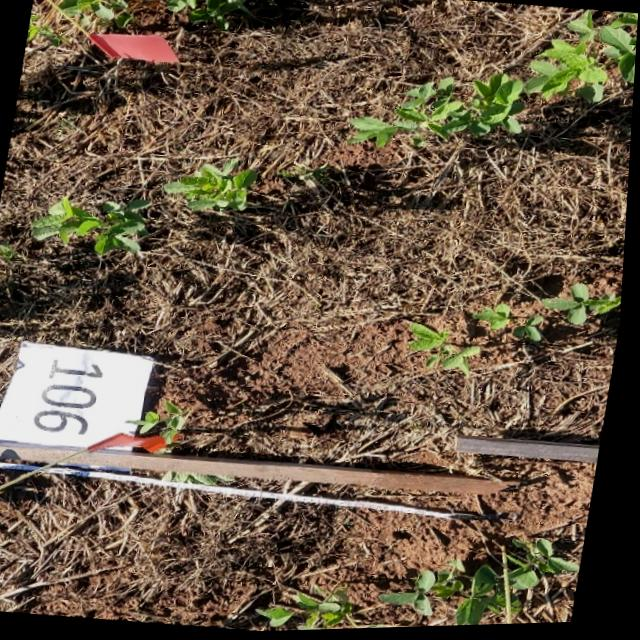soy_plant: (350, 13, 639, 149), (389, 565, 535, 628), (34, 197, 149, 254), (165, 160, 257, 211), (412, 324, 483, 376), (465, 439, 605, 464), (546, 286, 625, 328), (303, 594, 372, 632), (165, 0, 246, 31), (476, 307, 545, 342), (51, 0, 139, 26), (26, 11, 59, 42), (0, 244, 15, 259)
